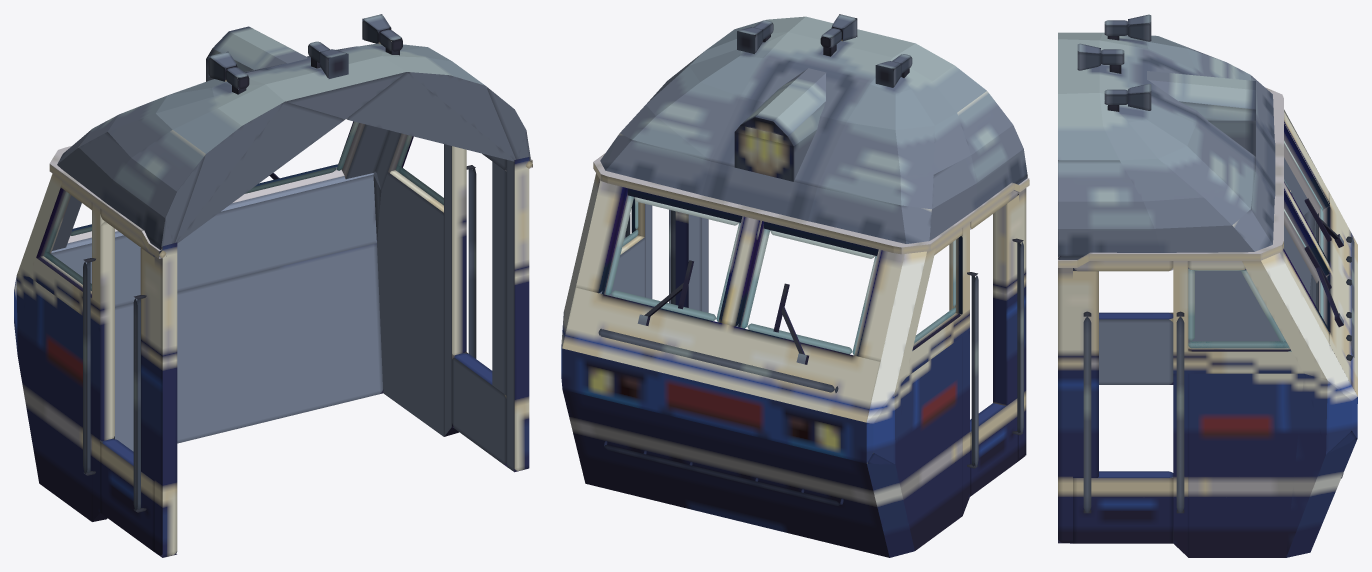
The model's file is df11_head.obj.
3 renders of one model, left to right at view 1: azimuth 30°, elevation 25°; view 2: azimuth 150°, elevation 25°; view 3: azimuth 270°, elevation 25°, orthographic. The views are drawn at different scales.
Visible parts, largest first — view 1: cube_selection_selection_selection_selection_selection_selection; view 2: cube_selection_selection_selection_selection_selection_selection; view 3: cube_selection_selection_selection_selection_selection_selection.
Boxes of the visible parts, left/top/right/bottom form: cube_selection_selection_selection_selection_selection_selection: left=14, top=14, right=532, bottom=557; cube_selection_selection_selection_selection_selection_selection: left=561, top=14, right=1029, bottom=557; cube_selection_selection_selection_selection_selection_selection: left=1058, top=14, right=1357, bottom=557.
Bounding box in the file's own units: 3.34 × 3.83 × 2.42.
